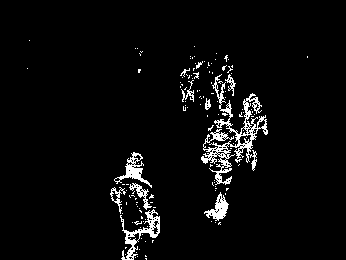person: (110, 149, 165, 260), (204, 111, 239, 222), (236, 90, 270, 175), (213, 64, 237, 122)
